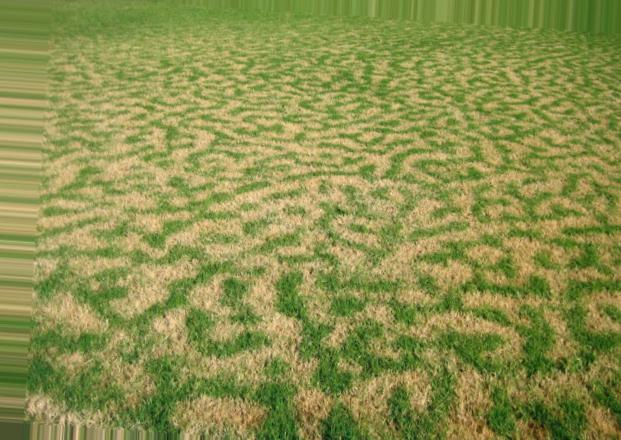patch: (234, 210, 358, 299), (423, 122, 530, 218), (467, 358, 578, 432), (380, 270, 462, 365), (86, 220, 193, 290), (237, 138, 352, 201), (191, 354, 280, 426), (86, 323, 168, 390), (95, 128, 183, 185), (502, 244, 572, 293), (573, 160, 606, 193)
